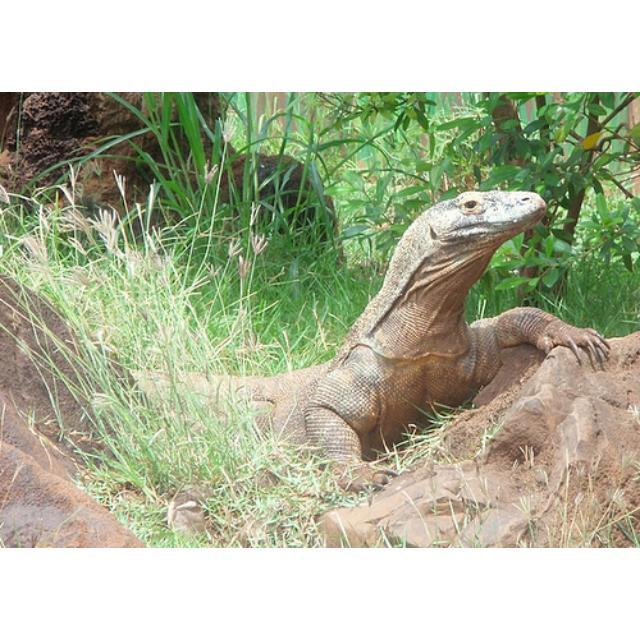KomodoDragon: (85, 186, 607, 493)
